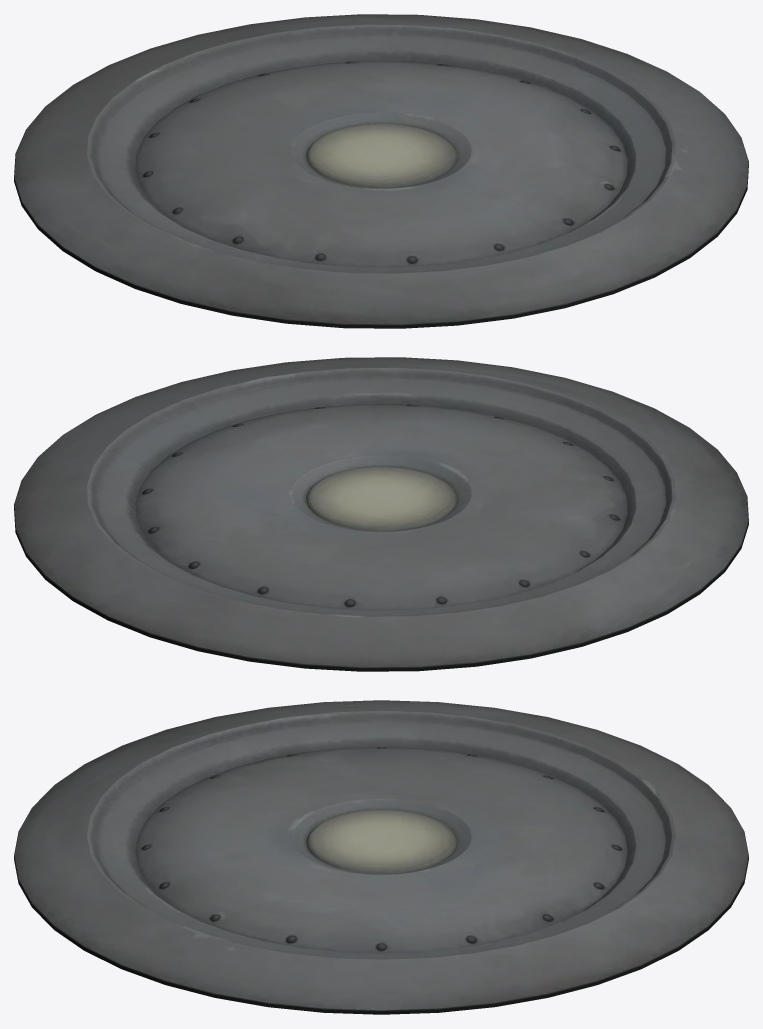
The picture shows the model from 3 angles, top to bottom: view 1: azimuth 30°, elevation 25°; view 2: azimuth 150°, elevation 25°; view 3: azimuth 270°, elevation 25°; orthographic projection.
Visible parts, largest first — view 1: body0_model0_lod0_mesh0; view 2: body0_model0_lod0_mesh0; view 3: body0_model0_lod0_mesh0.
Boxes of the visible parts, x1,y1,x2,y2 form: body0_model0_lod0_mesh0: (14, 14, 748, 328); body0_model0_lod0_mesh0: (14, 357, 748, 671); body0_model0_lod0_mesh0: (14, 700, 748, 1014).
Bounding box in the file's own units: 203 × 7.38 × 203.
Materials: 1 (1 with a texture image).
